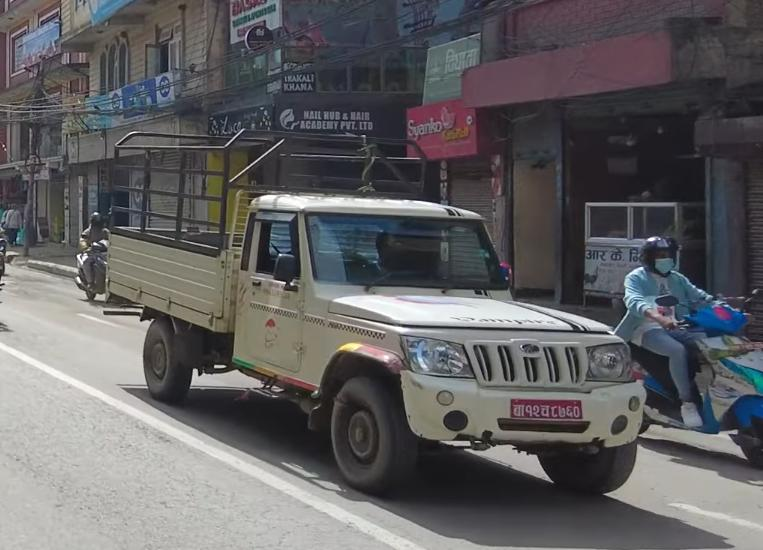scooter: (615, 284, 763, 472), (73, 231, 113, 303)
transport_vehicle: (103, 122, 652, 518)
